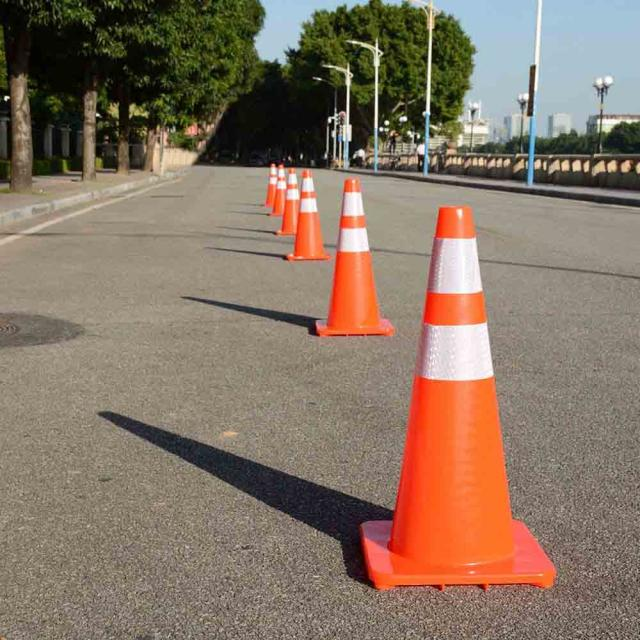cone: (371, 191, 528, 574), (305, 182, 387, 333), (287, 167, 321, 261), (286, 164, 310, 233), (265, 159, 286, 211), (268, 172, 283, 220)
